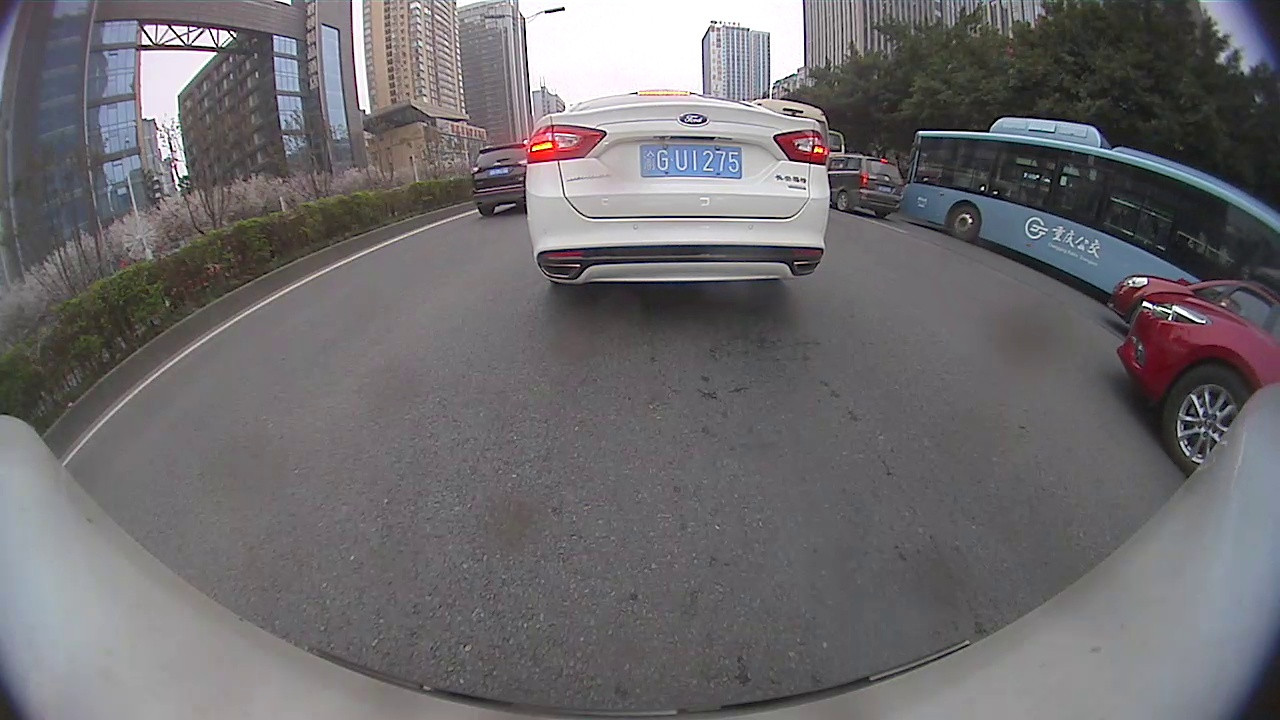bus: (903, 117, 1279, 295), (750, 96, 826, 145), (830, 132, 846, 155)
car: (528, 88, 829, 287), (1116, 298, 1279, 476), (1108, 271, 1278, 324), (829, 154, 904, 219), (471, 141, 528, 215)
front: (1158, 365, 1253, 476), (946, 204, 982, 242)
rear: (835, 188, 850, 213)
